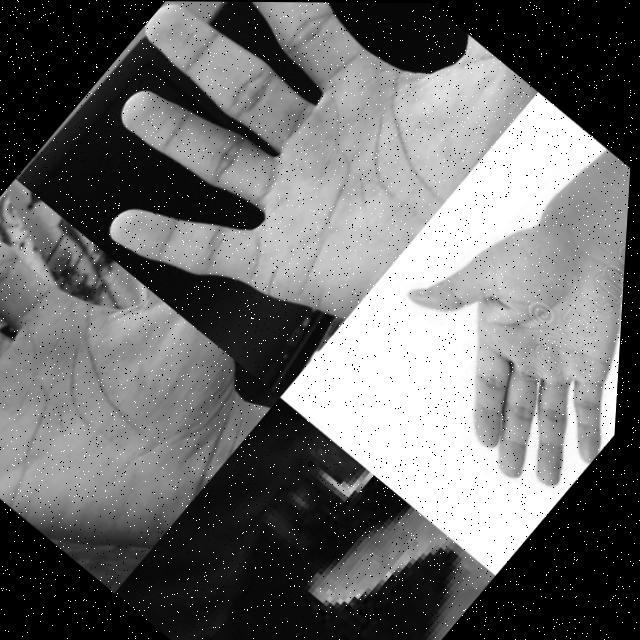no-gloves: (14, 0, 542, 388), (0, 178, 294, 594), (350, 167, 632, 511), (225, 479, 507, 640)
